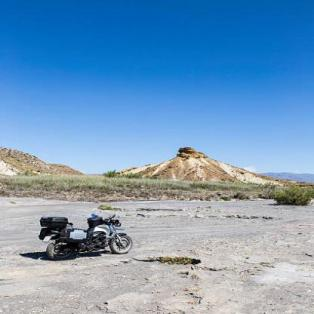Motocicleta: (40, 205, 137, 260)
